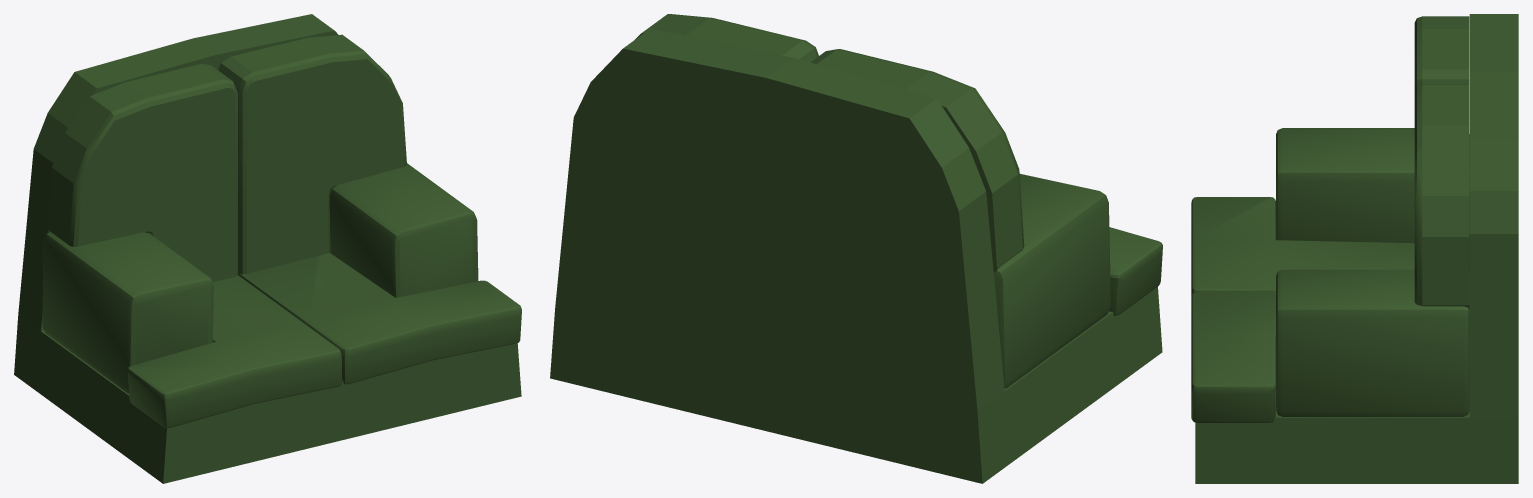
File: Couch.glb
3 views of the same model, side by side, from view 1: azimuth 30°, elevation 25°; view 2: azimuth 150°, elevation 25°; view 3: azimuth 270°, elevation 25° (orthographic). The views are drawn at different scales.
Parts seen in each view (by area): view 1: Cube.008; view 2: Cube.008; view 3: Cube.008.
Part boxes in pixels (x1=…): Cube.008: x1=14, y1=14, x2=521, y2=483; Cube.008: x1=550, y1=14, x2=1162, y2=483; Cube.008: x1=1191, y1=14, x2=1518, y2=483.
Size of the model in its own units: 9.26 by 7.19 by 6.73.
